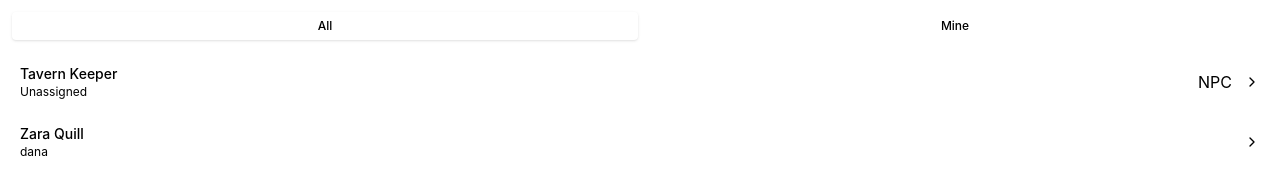
Test case: CharacterSheetPanel — the All / Mine filter › filters the in-game GM list too
The image size is (1280, 173).
Click the button with test id "cast-filter-mine" at (955, 26), box [642,12,1268,40]
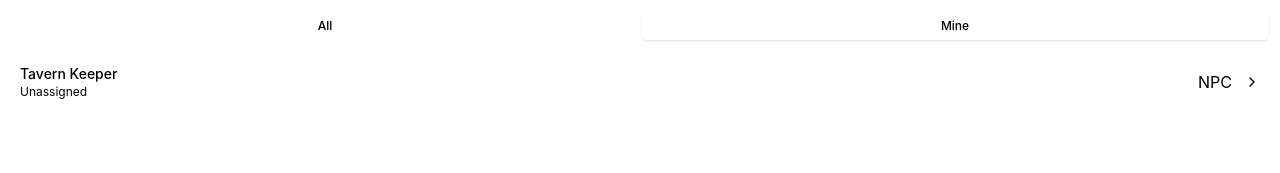
Expected: the button with test id "character-sheet-open-1" is shown, [8,52,1272,112]
Expected: the button with test id "character-sheet-open-2" is gone
